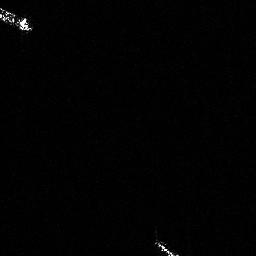ship: (1, 3, 36, 34), (151, 235, 182, 256)
